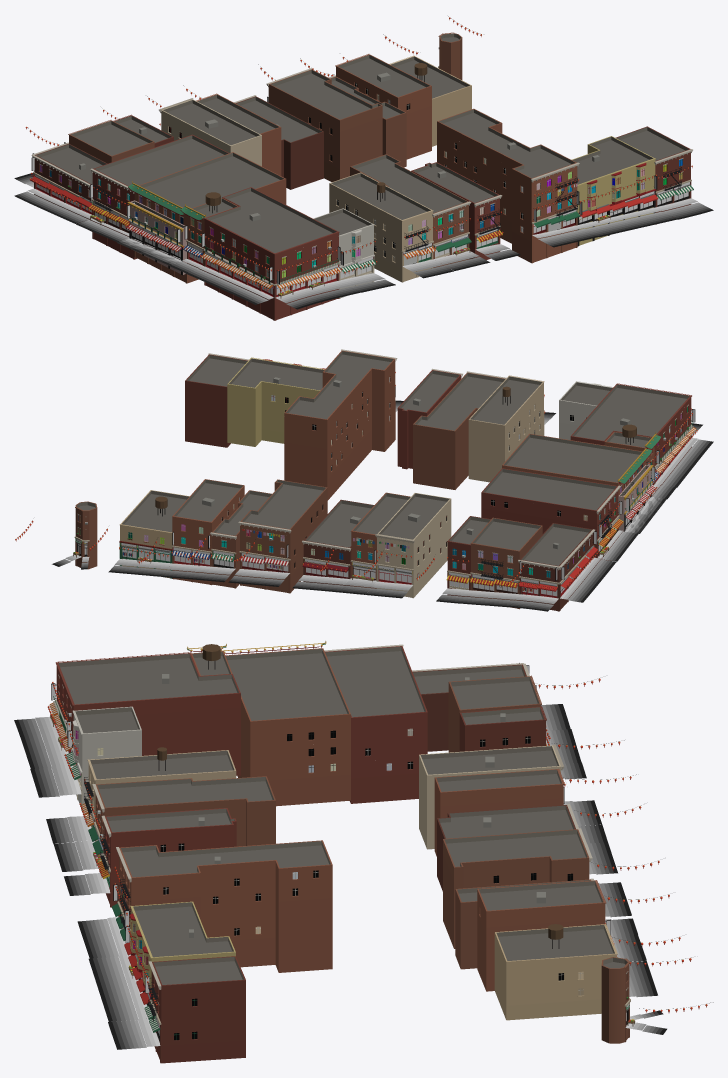
3 renders of one model, top to bottom at view 1: azimuth 30°, elevation 25°; view 2: azimuth 150°, elevation 25°; view 3: azimuth 270°, elevation 25°, orthographic. The views are drawn at different scales.
Visible parts, largest first — view 1: L0_roof, L0_brickred, L0_ground, L0_stone, L0_d_brickred, L0_d_metal, L0_brick, L0_stucco, L0_d_fabric, L0_cwin, L0_d_stone, L0_clear (+8 smaller); view 2: L0_roof, L0_brickred, L0_ground, L0_d_brickred, L0_stone, L0_brick, L0_d_metal, L0_stucco, L0_d_fabric, L0_clear, L0_d_brick, L0_d_stone (+7 smaller); view 3: L0_roof, L0_brickred, L0_ground, L0_stone, L0_d_brickred, L0_stucco, L0_d_metal, L0_d_brick, L0_d_fabric, L0_win, L0_d_stucco, L0_lantern (+2 smaller).
Boxes of the visible parts, x1,y1,x2,y2 form: L0_roof: [36, 33, 688, 253]; L0_brickred: [34, 37, 690, 319]; L0_ground: [14, 173, 713, 309]; L0_stone: [31, 32, 692, 285]; L0_d_brickred: [38, 112, 683, 283]; L0_d_metal: [28, 16, 690, 296]; L0_brick: [161, 110, 432, 282]; L0_stucco: [129, 144, 655, 297]; L0_d_fabric: [26, 19, 693, 291]; L0_cwin: [40, 159, 682, 277]; L0_d_stone: [34, 68, 691, 320]; L0_clear: [36, 184, 688, 294]; L0_roof: [76, 351, 689, 565]; L0_brickred: [75, 359, 691, 610]; L0_ground: [52, 400, 713, 611]; L0_d_brickred: [77, 375, 688, 608]; L0_stone: [74, 349, 692, 584]; L0_brick: [377, 382, 543, 597]; L0_d_metal: [22, 377, 695, 597]; L0_stucco: [120, 382, 650, 578]; L0_d_fabric: [16, 396, 696, 591]; L0_clear: [78, 435, 689, 596]; L0_d_brick: [384, 419, 504, 565]; L0_d_stone: [75, 360, 691, 611]; L0_roof: [58, 646, 627, 984]; L0_brickred: [56, 666, 629, 1063]; L0_ground: [14, 704, 666, 1049]; L0_stone: [55, 644, 630, 1024]; L0_d_brickred: [58, 677, 628, 1014]; L0_stucco: [73, 715, 616, 1020]; L0_d_metal: [51, 660, 713, 1041]; L0_d_brick: [89, 755, 560, 849]; L0_d_fabric: [48, 681, 706, 1032]; L0_win: [97, 728, 583, 1040]; L0_d_stucco: [73, 727, 506, 1019]; L0_lantern: [47, 679, 707, 1011].
Size of the model in its own units: 137 by 29.18 by 125.
